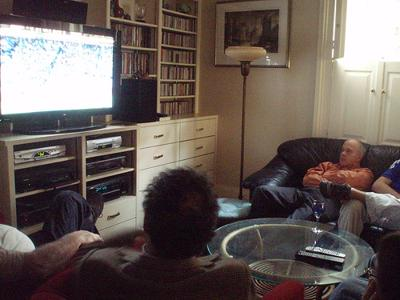person: (249, 139, 376, 222)
